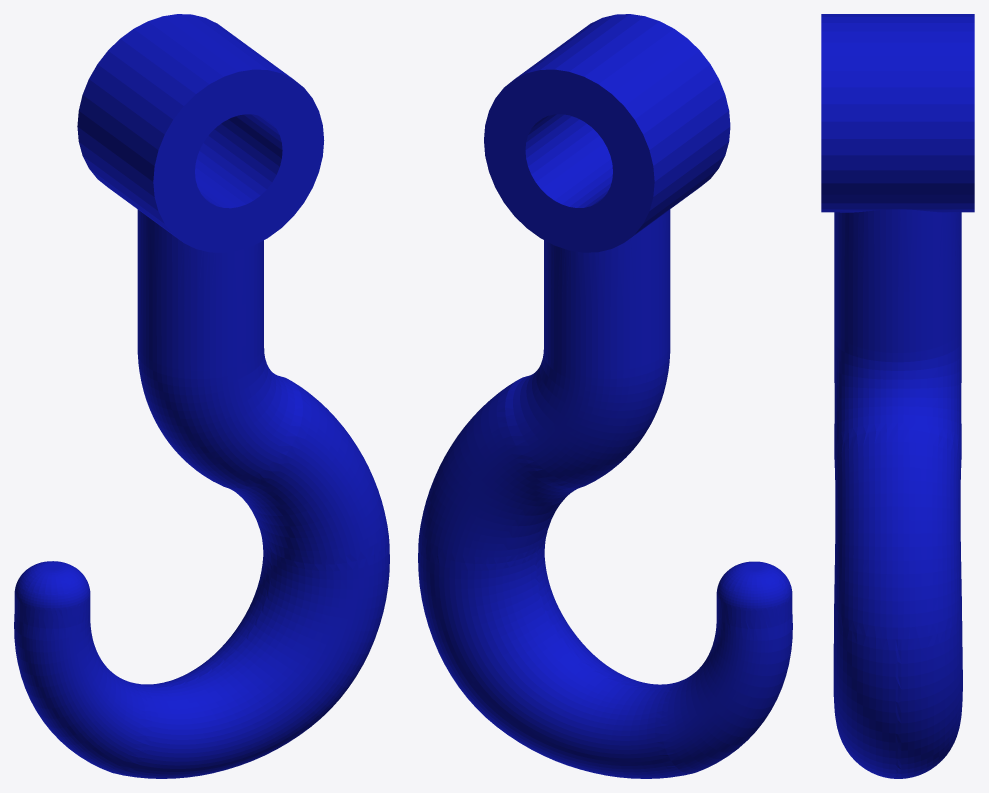
The model's file is MocCau.glb.
The picture shows the model from 3 angles, left to right: view 1: azimuth 30°, elevation 25°; view 2: azimuth 150°, elevation 25°; view 3: azimuth 270°, elevation 25°; orthographic projection.
Visible parts, largest first — view 1: defaultobject.002; view 2: defaultobject.002; view 3: defaultobject.002.
Boxes of the visible parts, left/top/right/bottom form: defaultobject.002: left=14, top=14, right=389, bottom=778; defaultobject.002: left=418, top=14, right=792, bottom=778; defaultobject.002: left=821, top=14, right=974, bottom=778.
Size of the model in its own units: 41.13 by 78.85 by 14.94.
